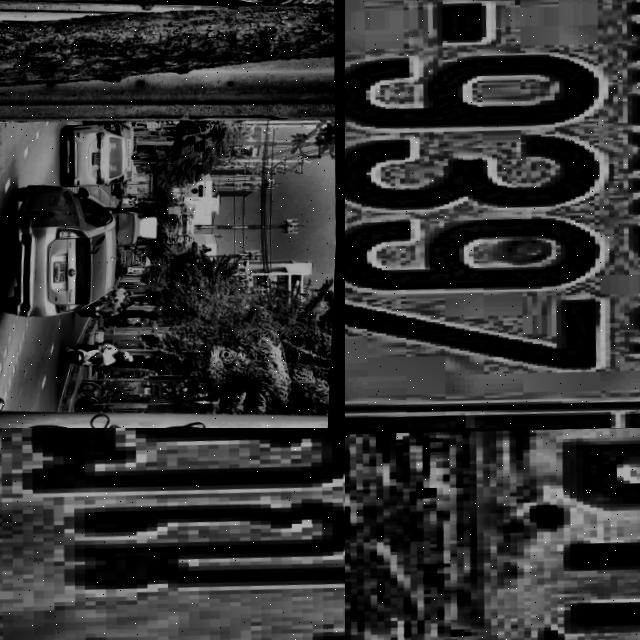license-plate: (345, 0, 640, 428), (0, 428, 345, 640), (345, 428, 640, 640), (56, 257, 70, 281), (93, 149, 102, 162)
